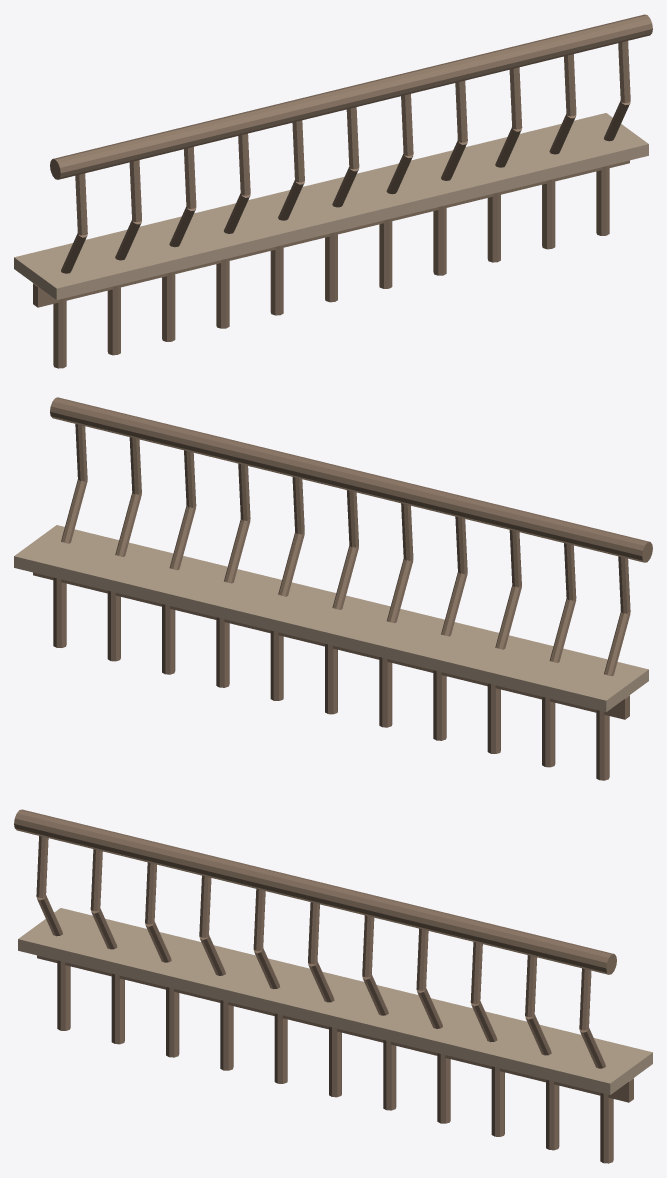
Rendered from arch_veranda_balustrade.glb.
The picture shows the model from 3 angles, top to bottom: view 1: azimuth 30°, elevation 25°; view 2: azimuth 150°, elevation 25°; view 3: azimuth 330°, elevation 25°; orthographic projection.
Parts seen in each view (by area): view 1: arch_veranda_balustrade/meirengkao_seat_00000, arch_veranda_balustrade/meirengkao_crest_rail_00001, arch_veranda_balustrade/meirengkao_base_apron_00002, arch_veranda_balustrade/meirengkao_under_bracket_00012, arch_veranda_balustrade/meirengkao_under_bracket_00003, arch_veranda_balustrade/meirengkao_under_bracket_00030, arch_veranda_balustrade/meirengkao_under_bracket_00015, arch_veranda_balustrade/meirengkao_under_bracket_00024, arch_veranda_balustrade/meirengkao_under_bracket_00033, arch_veranda_balustrade/meirengkao_under_bracket_00009, arch_veranda_balustrade/meirengkao_under_bracket_00021, arch_veranda_balustrade/meirengkao_under_bracket_00027 (+13 smaller); view 2: arch_veranda_balustrade/meirengkao_seat_00000, arch_veranda_balustrade/meirengkao_crest_rail_00001, arch_veranda_balustrade/meirengkao_base_apron_00002, arch_veranda_balustrade/meirengkao_under_bracket_00003, arch_veranda_balustrade/meirengkao_under_bracket_00012, arch_veranda_balustrade/meirengkao_under_bracket_00015, arch_veranda_balustrade/meirengkao_under_bracket_00024, arch_veranda_balustrade/meirengkao_under_bracket_00030, arch_veranda_balustrade/meirengkao_under_bracket_00033, arch_veranda_balustrade/meirengkao_under_bracket_00009, arch_veranda_balustrade/meirengkao_under_bracket_00021, arch_veranda_balustrade/meirengkao_under_bracket_00027 (+24 smaller); view 3: arch_veranda_balustrade/meirengkao_seat_00000, arch_veranda_balustrade/meirengkao_crest_rail_00001, arch_veranda_balustrade/meirengkao_base_apron_00002, arch_veranda_balustrade/meirengkao_under_bracket_00024, arch_veranda_balustrade/meirengkao_under_bracket_00006, arch_veranda_balustrade/meirengkao_under_bracket_00033, arch_veranda_balustrade/meirengkao_under_bracket_00003, arch_veranda_balustrade/meirengkao_under_bracket_00012, arch_veranda_balustrade/meirengkao_under_bracket_00021, arch_veranda_balustrade/meirengkao_under_bracket_00009, arch_veranda_balustrade/meirengkao_under_bracket_00015, arch_veranda_balustrade/meirengkao_under_bracket_00027 (+13 smaller).
Part boxes in pixels (x1,y1,x2,y2): arch_veranda_balustrade/meirengkao_seat_00000: [14, 113, 648, 299]; arch_veranda_balustrade/meirengkao_crest_rail_00001: [50, 14, 652, 179]; arch_veranda_balustrade/meirengkao_base_apron_00002: [33, 160, 629, 307]; arch_veranda_balustrade/meirengkao_under_bracket_00012: [216, 258, 229, 328]; arch_veranda_balustrade/meirengkao_under_bracket_00003: [53, 298, 66, 368]; arch_veranda_balustrade/meirengkao_under_bracket_00030: [542, 178, 555, 249]; arch_veranda_balustrade/meirengkao_under_bracket_00015: [270, 245, 283, 315]; arch_veranda_balustrade/meirengkao_under_bracket_00024: [433, 205, 446, 275]; arch_veranda_balustrade/meirengkao_under_bracket_00033: [596, 165, 609, 235]; arch_veranda_balustrade/meirengkao_under_bracket_00009: [162, 271, 175, 341]; arch_veranda_balustrade/meirengkao_under_bracket_00021: [379, 218, 392, 288]; arch_veranda_balustrade/meirengkao_under_bracket_00027: [487, 192, 500, 262]; arch_veranda_balustrade/meirengkao_seat_00000: [14, 525, 648, 712]; arch_veranda_balustrade/meirengkao_crest_rail_00001: [50, 397, 652, 562]; arch_veranda_balustrade/meirengkao_base_apron_00002: [33, 572, 629, 719]; arch_veranda_balustrade/meirengkao_under_bracket_00003: [596, 710, 609, 780]; arch_veranda_balustrade/meirengkao_under_bracket_00012: [433, 670, 446, 740]; arch_veranda_balustrade/meirengkao_under_bracket_00015: [379, 657, 392, 727]; arch_veranda_balustrade/meirengkao_under_bracket_00024: [216, 617, 229, 687]; arch_veranda_balustrade/meirengkao_under_bracket_00030: [107, 591, 120, 661]; arch_veranda_balustrade/meirengkao_under_bracket_00033: [53, 577, 66, 647]; arch_veranda_balustrade/meirengkao_under_bracket_00009: [487, 683, 500, 753]; arch_veranda_balustrade/meirengkao_under_bracket_00021: [270, 630, 283, 700]; arch_veranda_balustrade/meirengkao_under_bracket_00027: [162, 604, 175, 674]; arch_veranda_balustrade/meirengkao_seat_00000: [18, 908, 652, 1094]; arch_veranda_balustrade/meirengkao_crest_rail_00001: [14, 809, 616, 974]; arch_veranda_balustrade/meirengkao_base_apron_00002: [37, 955, 633, 1102]; arch_veranda_balustrade/meirengkao_under_bracket_00024: [437, 1053, 450, 1123]; arch_veranda_balustrade/meirengkao_under_bracket_00006: [111, 973, 124, 1044]; arch_veranda_balustrade/meirengkao_under_bracket_00033: [600, 1093, 613, 1163]; arch_veranda_balustrade/meirengkao_under_bracket_00003: [57, 960, 70, 1030]; arch_veranda_balustrade/meirengkao_under_bracket_00012: [220, 1000, 233, 1070]; arch_veranda_balustrade/meirengkao_under_bracket_00021: [383, 1040, 396, 1110]; arch_veranda_balustrade/meirengkao_under_bracket_00009: [166, 987, 179, 1057]; arch_veranda_balustrade/meirengkao_under_bracket_00015: [274, 1013, 287, 1083]; arch_veranda_balustrade/meirengkao_under_bracket_00027: [491, 1066, 504, 1136].
Bounding box in the file's own units: 2.4 × 0.878 × 0.328.
